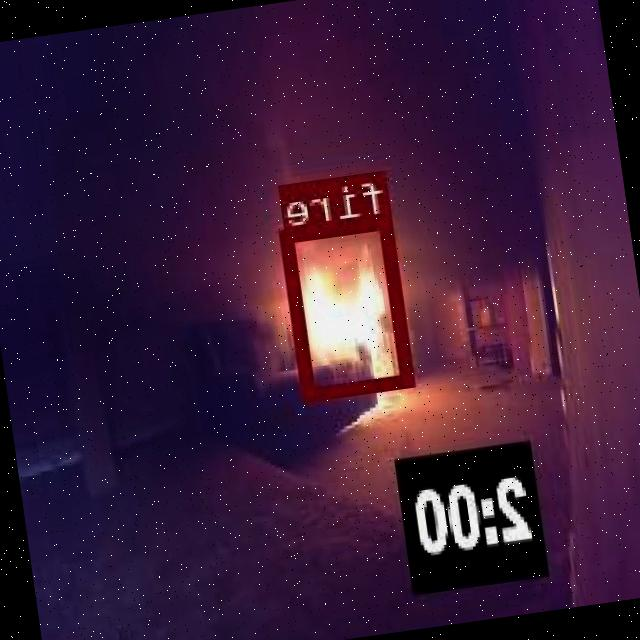fire: (284, 214, 418, 398)
